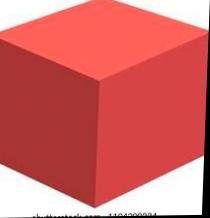cube: (0, 0, 210, 207)
